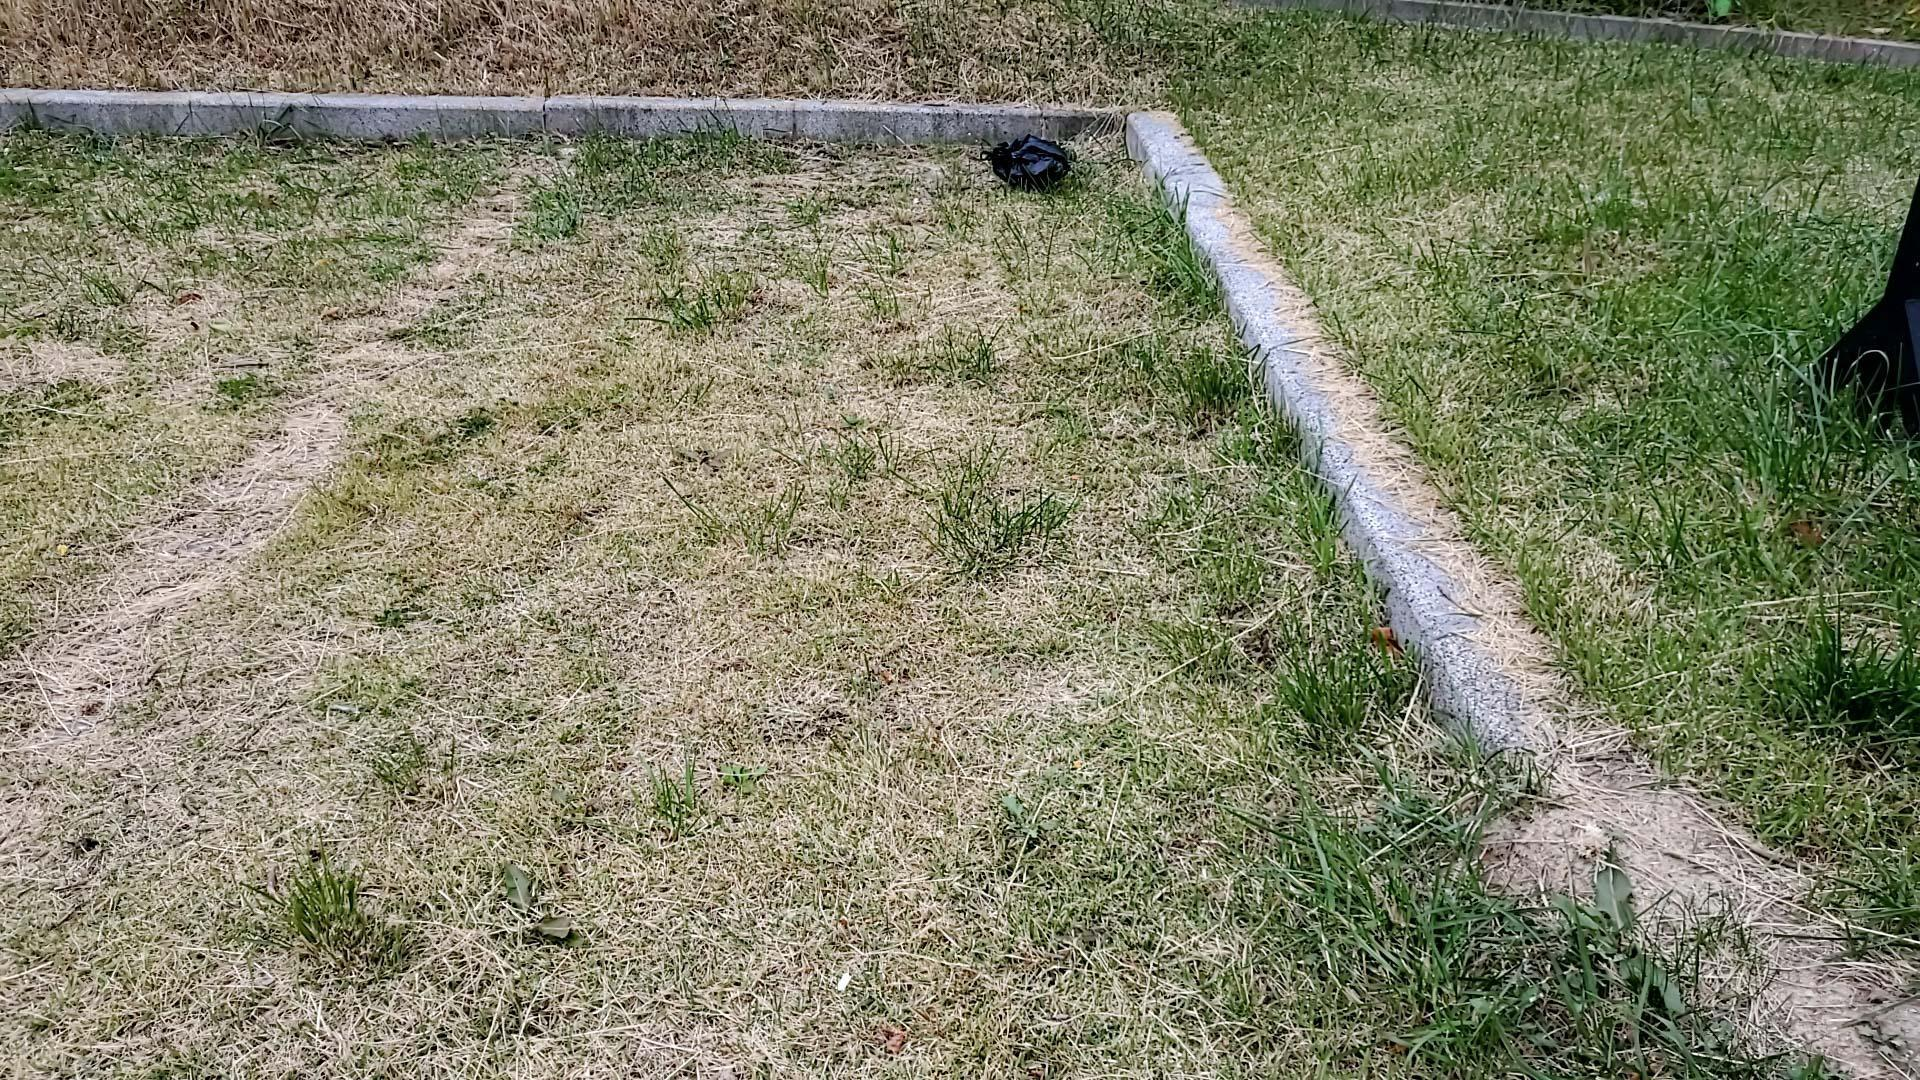black_bag: (977, 124, 1077, 196)
